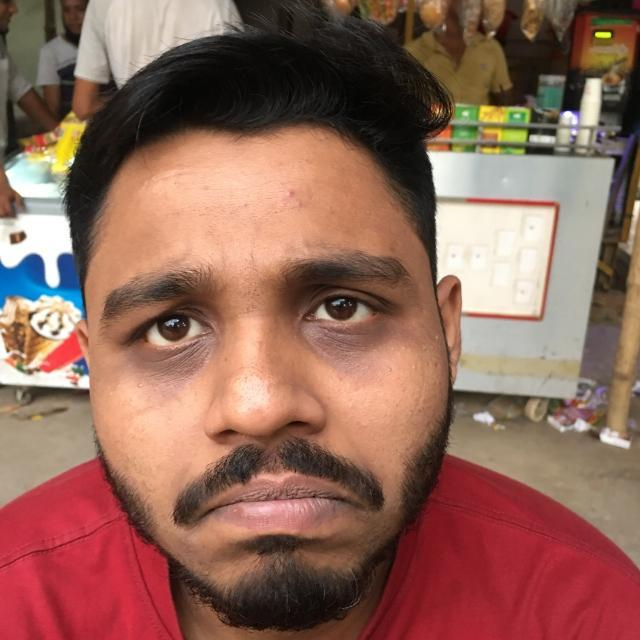sad: (37, 133, 526, 638)
